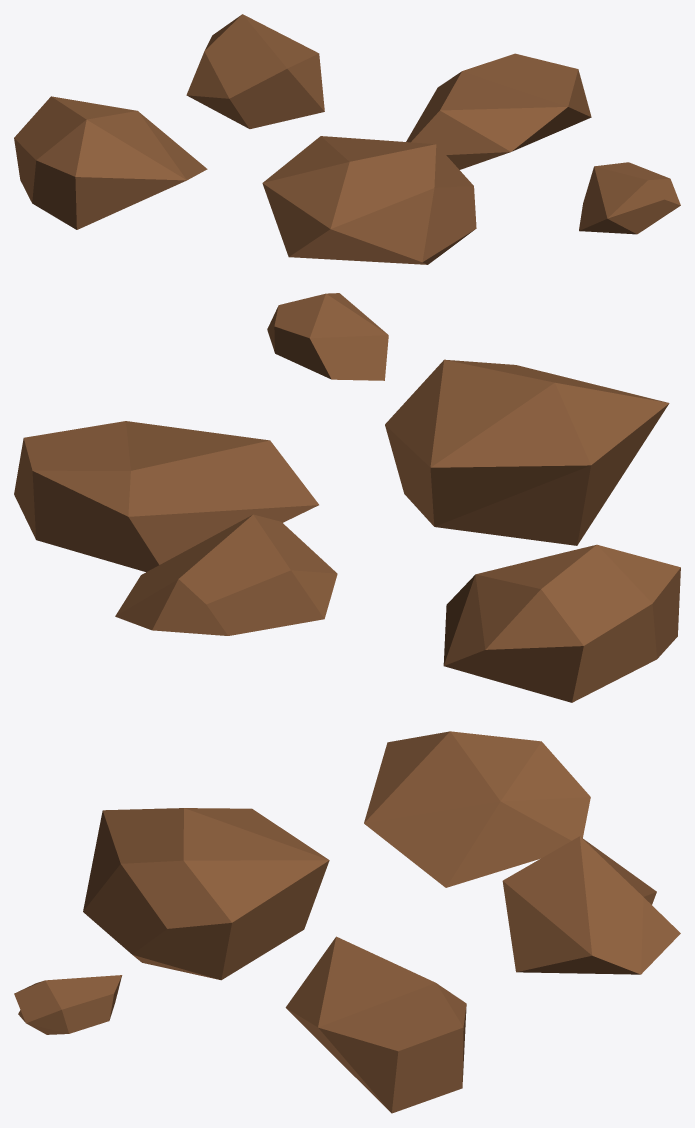
Rendered from rocks-small_orange.glb.
The picture shows the model from 3 angles, top to bottom: view 1: azimuth 30°, elevation 25°; view 2: azimuth 150°, elevation 25°; view 3: azimuth 270°, elevation 25°; orthographic projection. The views are drawn at different scales.
Parts seen in each view (by area): view 1: rocks-small_orange; view 2: rocks-small_orange; view 3: rocks-small_orange.
Part boxes in pixels (x1,y1,x2,y2): rocks-small_orange: (14,14,680,264); rocks-small_orange: (14,293,680,702); rocks-small_orange: (14,731,680,1113).
Size of the model in its own units: 1.11 by 0.2415 by 1.05.
Materials: 1 (1 with a texture image).
